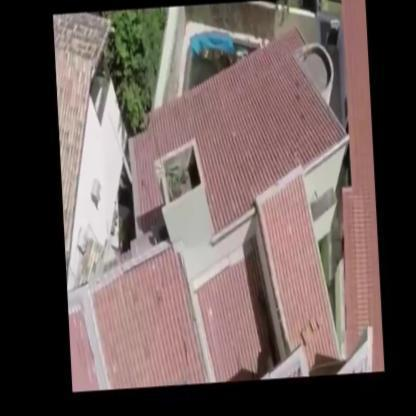agua: (193, 56, 227, 74)
